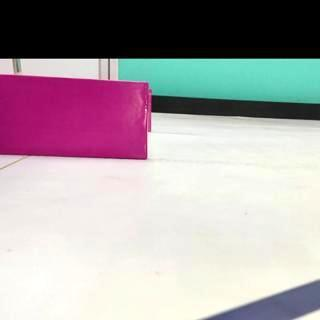xparking: (1, 77, 147, 159)
